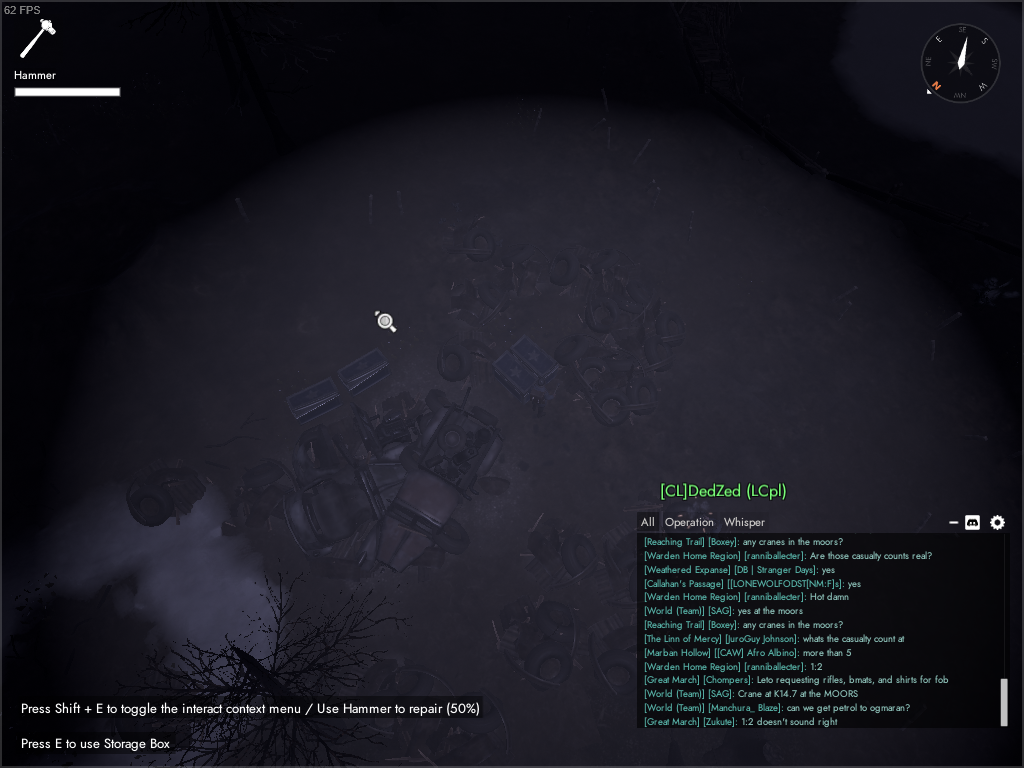player: (676, 497, 717, 534), (528, 376, 548, 419)
scrap: (351, 655, 514, 768), (554, 334, 659, 427), (490, 596, 585, 689), (496, 243, 640, 301), (577, 296, 685, 371), (582, 611, 667, 695), (603, 496, 668, 601), (520, 510, 601, 588), (126, 460, 215, 529), (433, 338, 495, 390), (445, 277, 509, 326), (441, 213, 499, 262)
scrapyard: (219, 385, 503, 574)
storage_box: (286, 376, 344, 426), (510, 335, 562, 389), (338, 348, 393, 397), (491, 352, 539, 401)
toggle_storage_box: (17, 734, 173, 754)
